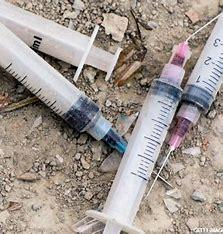Syringe: (73, 6, 223, 234)
